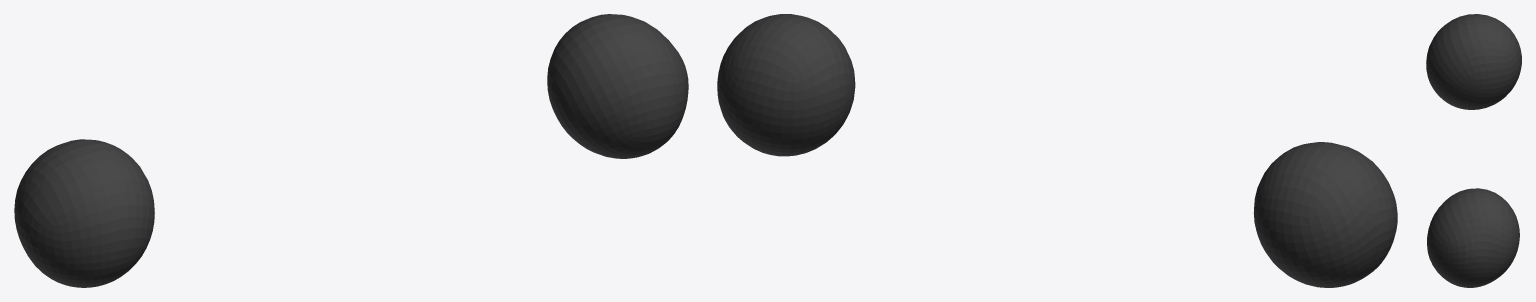
The model's file is eye_glass.glb.
3 renders of one model, left to right at view 1: azimuth 30°, elevation 25°; view 2: azimuth 150°, elevation 25°; view 3: azimuth 270°, elevation 25°, orthographic. The views are drawn at different scales.
Visible parts, largest first — view 1: eye_glass; view 2: eye_glass; view 3: eye_glass.
Part boxes in pixels (x1,y1,x2,y2): eye_glass: (14,14,688,287); eye_glass: (717,14,1397,287); eye_glass: (1426,14,1521,287).
Bounding box in the file's own units: 22.99 × 4.51 × 4.33.
Materials: 1 (1 with a texture image).
